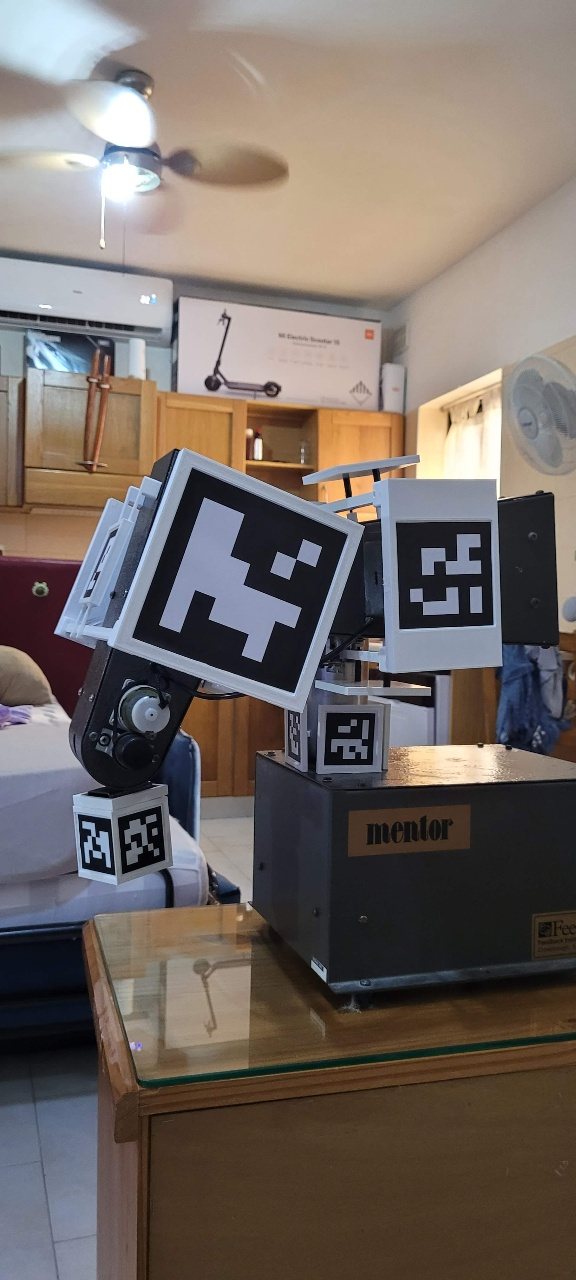Robot: (53, 451, 555, 888)
